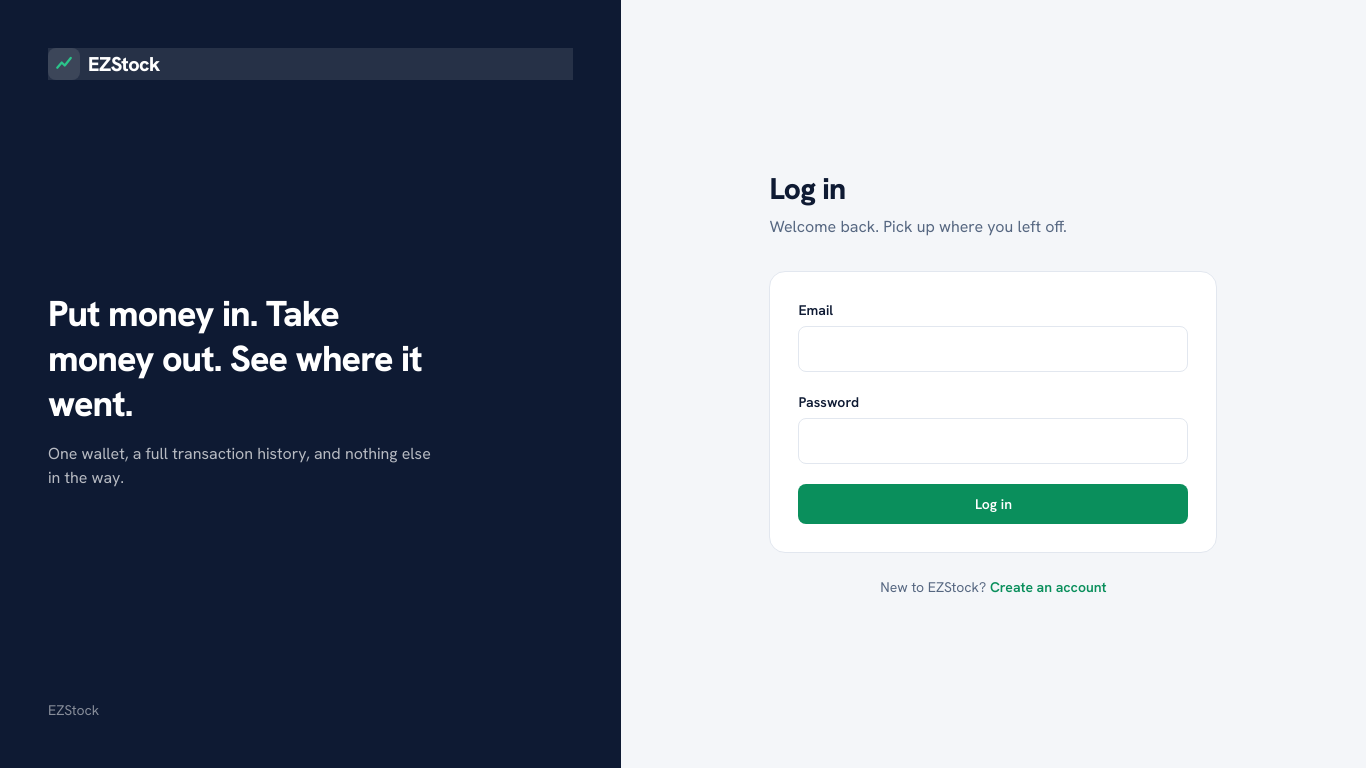
login › shows a message when credentials are wrong
In the field labelled "Email": (993, 349) [798,326,1188,372], type "trader@example.com"
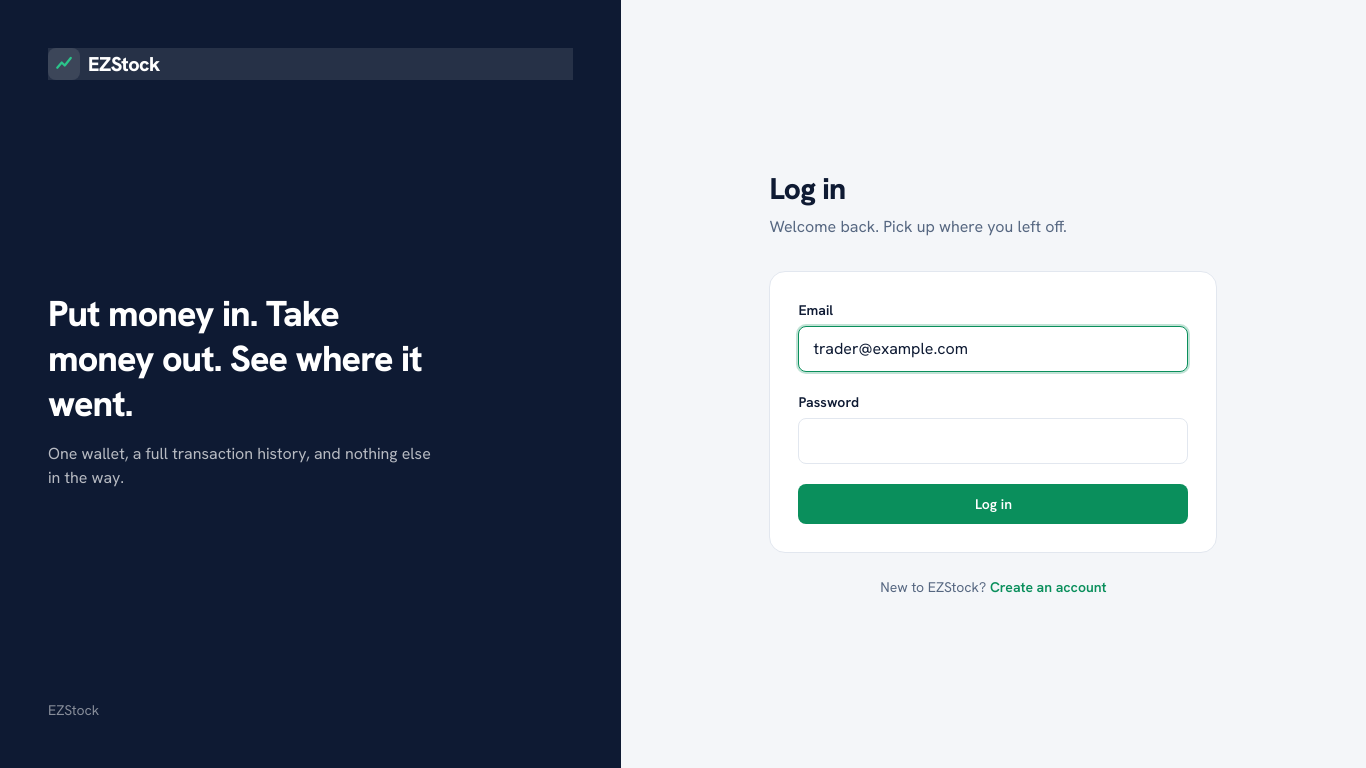
In the password field labelled "Password": (993, 441) [798,418,1188,464], type "wrong-password"
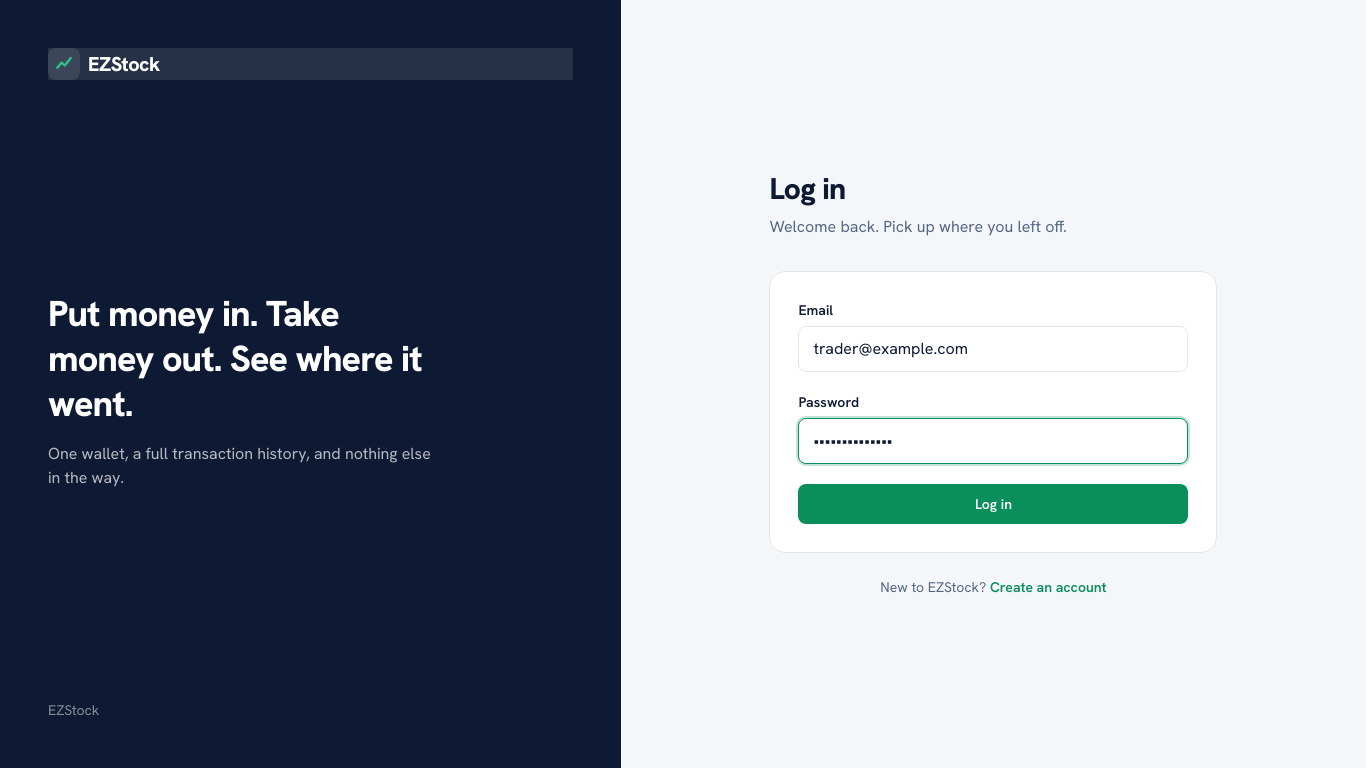
Click the button "Log in": (993, 504) [798,484,1188,524]
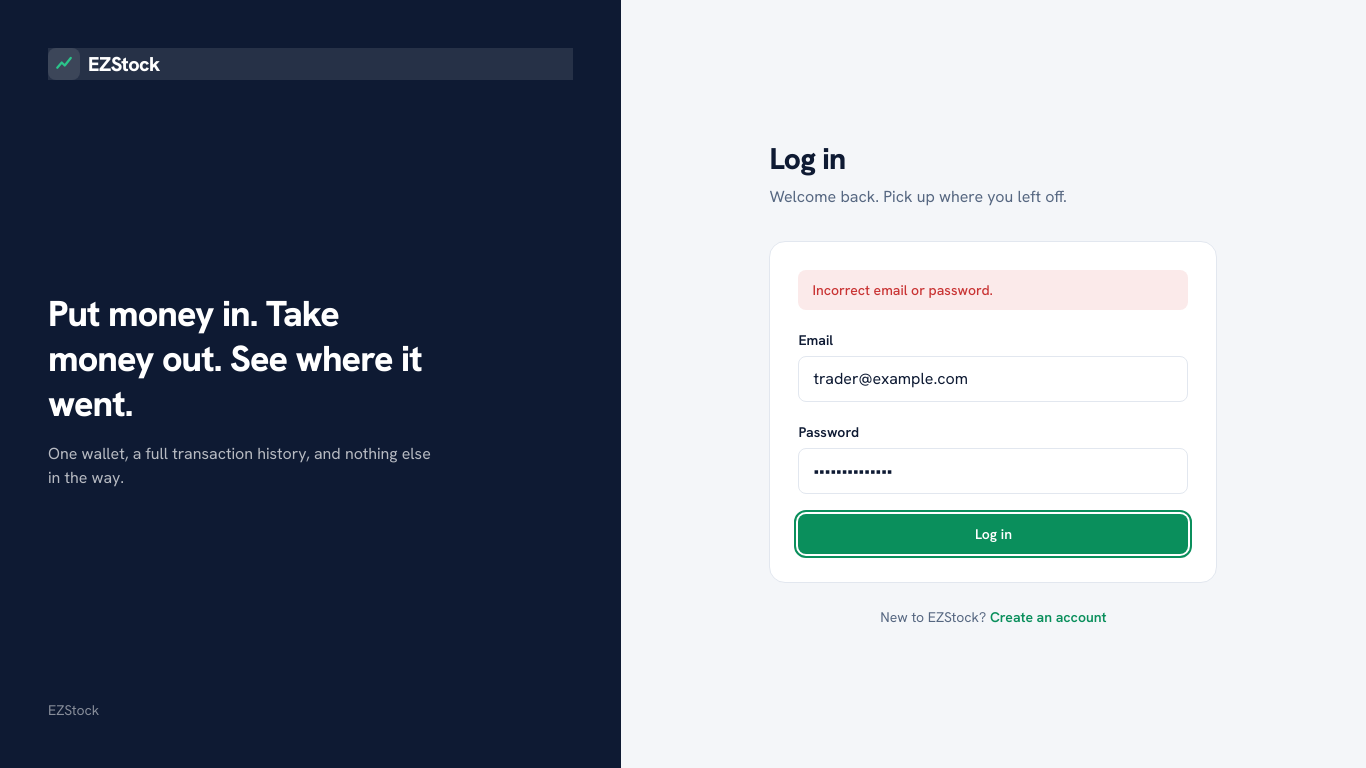
expect the message reads "Incorrect email or password.": met, box [812,281,993,299]
